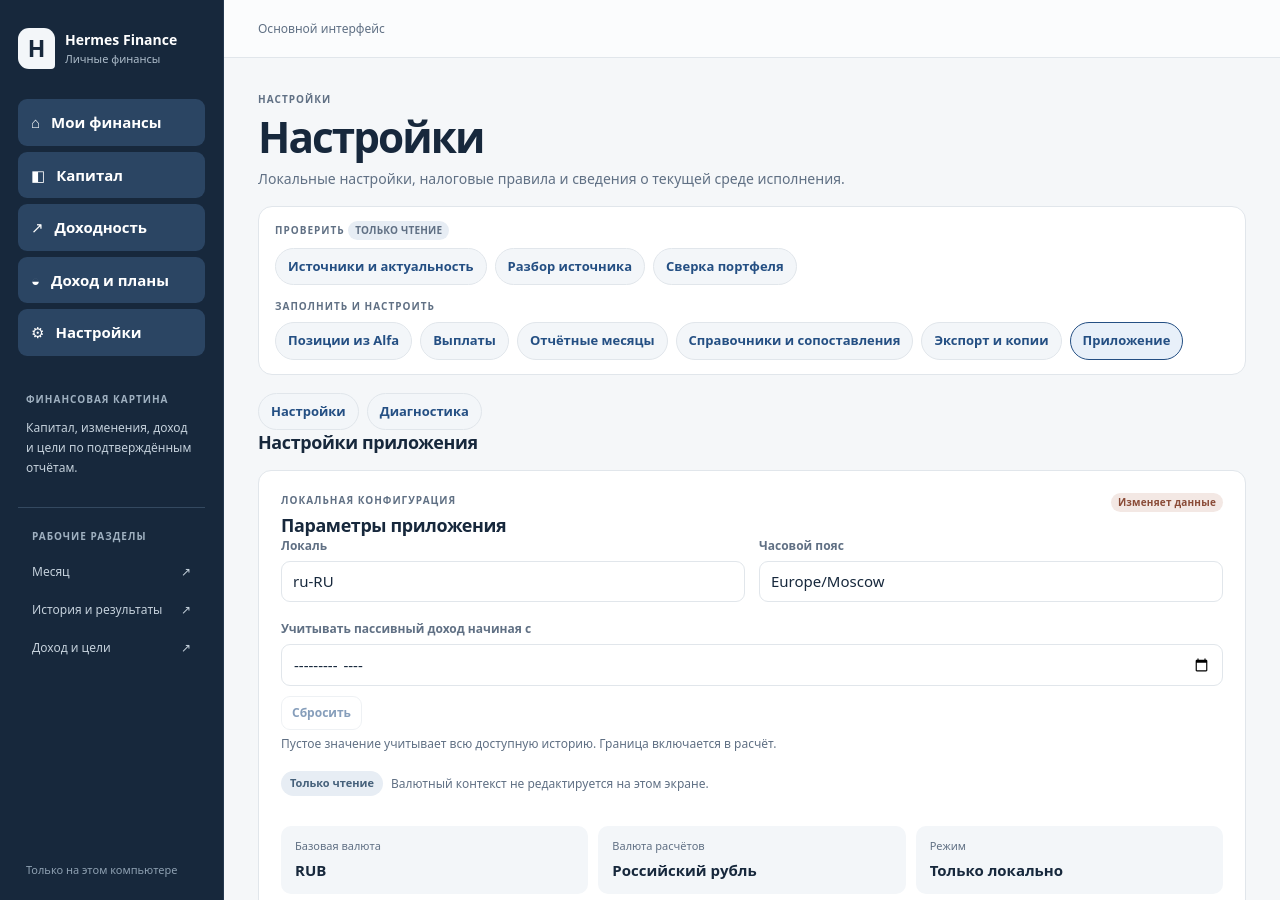
UI v2 Data/App › keeps server field failures localized and does not claim a save
Replace the text in the field labelled "Часовой пояс" with "UTC+3". click: (991, 582)
box: [759,562,1223,602]
(page scrolled)
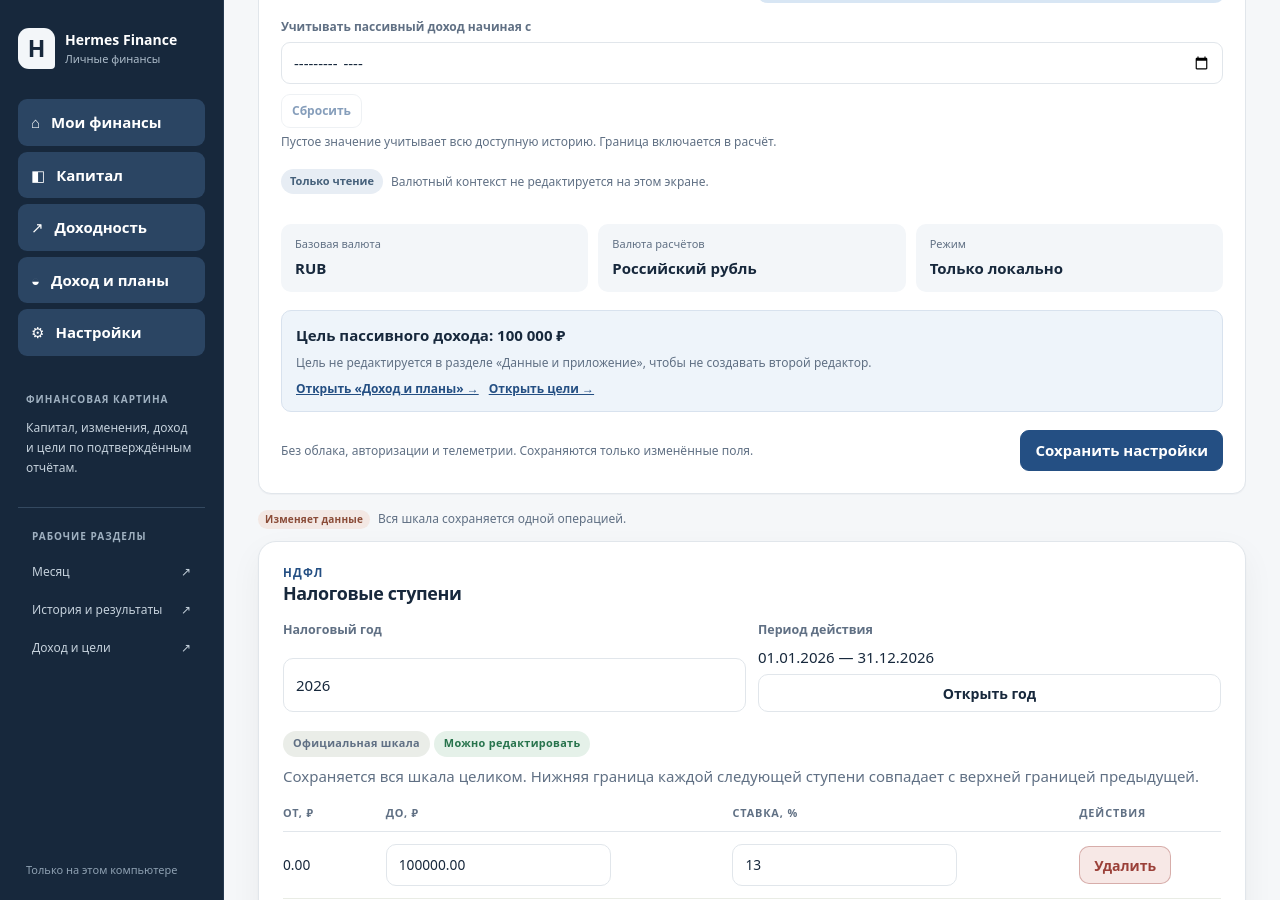
Click the button "Сохранить настройки". click: (1122, 451)
box: [1020,430,1223,471]
(page scrolled)
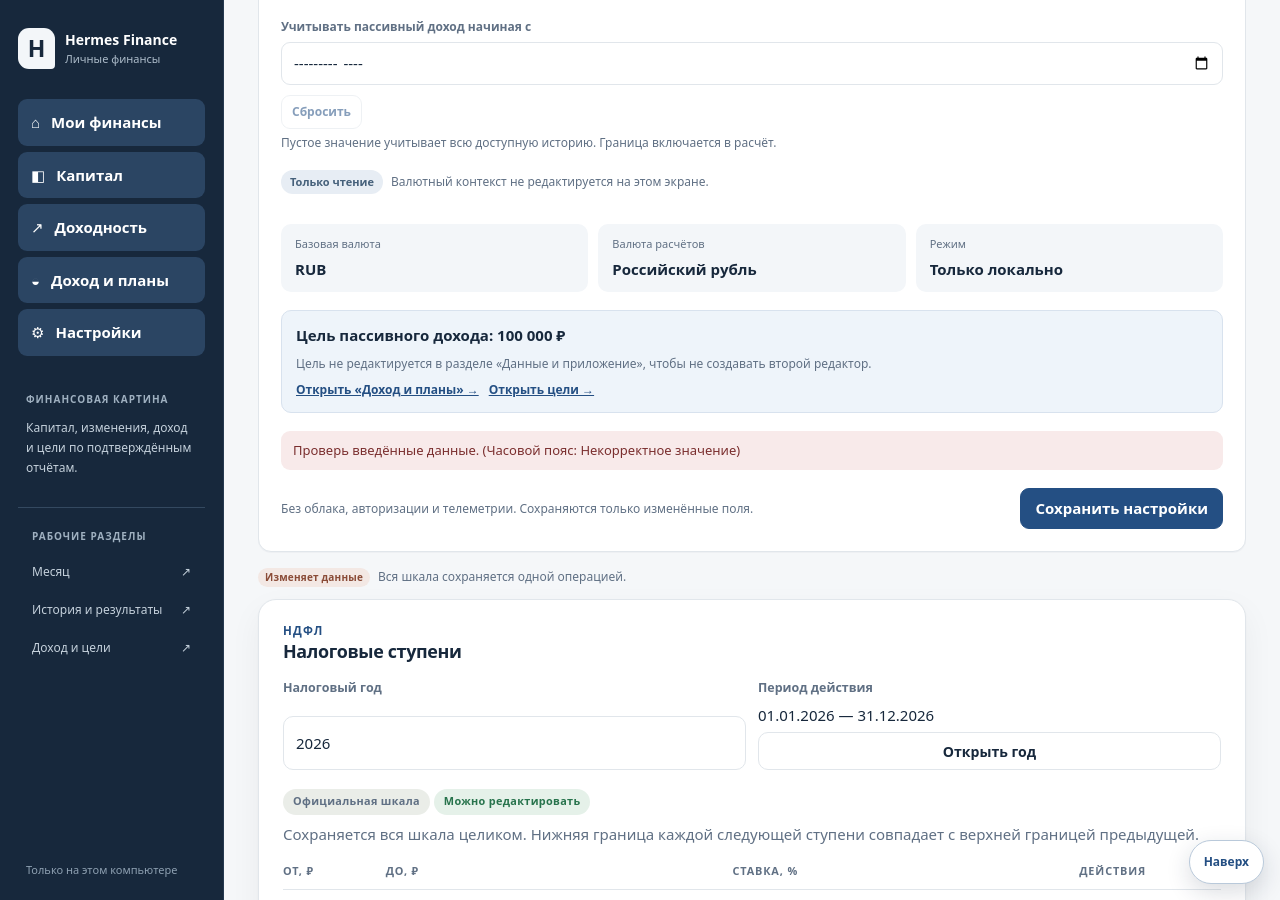
Check: the message shows "Проверь введённые данные", box [293,441,740,459]
